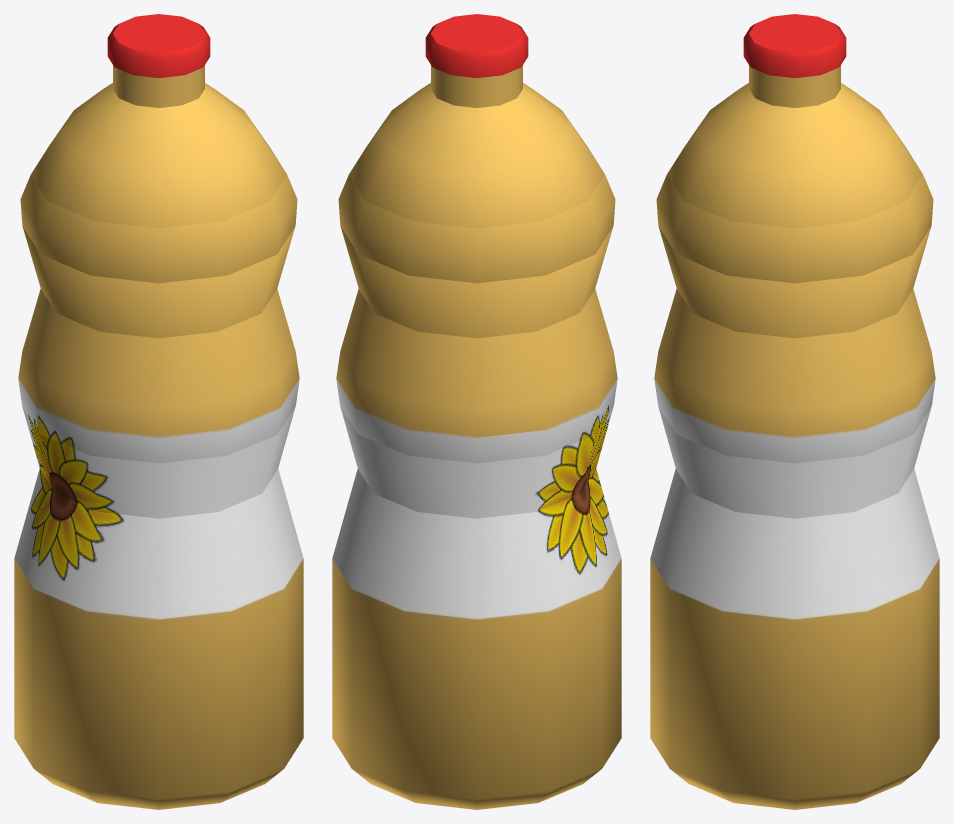
Rendered from Plastic_bootle_oil.gltf.
3 views of the same model, side by side, from view 1: azimuth 30°, elevation 25°; view 2: azimuth 150°, elevation 25°; view 3: azimuth 270°, elevation 25° (orthographic).
Visible parts, largest first — view 1: Plastic_bootle_oil; view 2: Plastic_bootle_oil; view 3: Plastic_bootle_oil.
Boxes of the visible parts, x1,y1,x2,y2 form: Plastic_bootle_oil: (14, 14, 303, 809); Plastic_bootle_oil: (332, 14, 621, 809); Plastic_bootle_oil: (650, 14, 939, 809).
Size of the model in its own units: 0.0935 by 0.2585 by 0.0935.
1 material, 1 textured.
